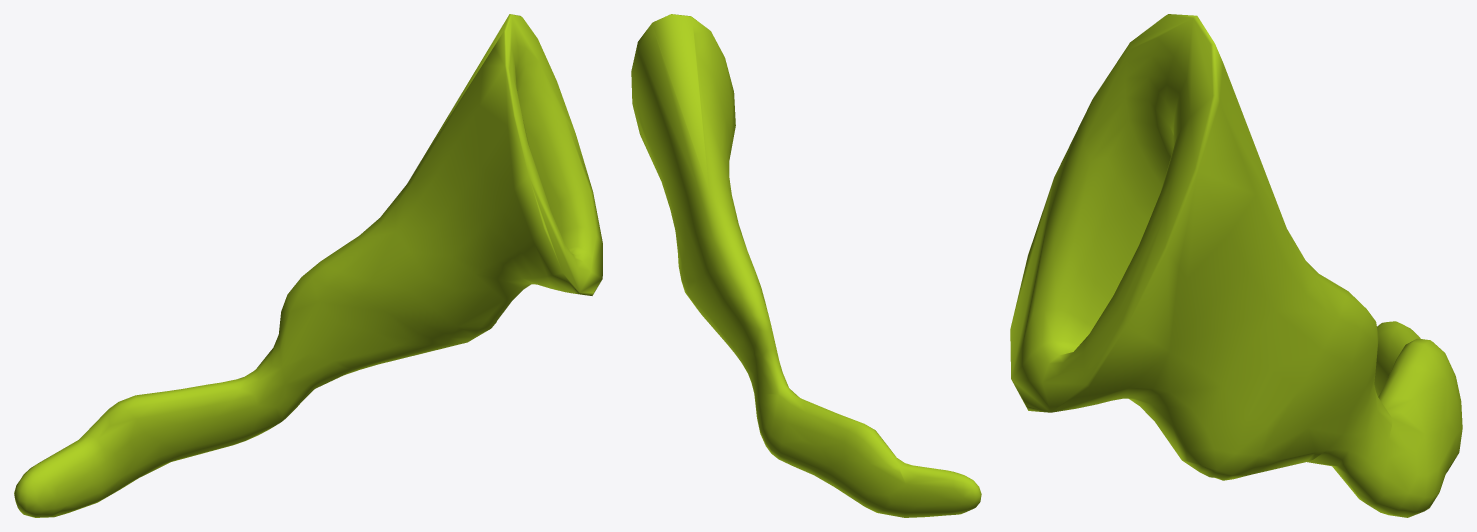
Rendered from VitellineDuct.fbx.
3 renders of one model, left to right at view 1: azimuth 30°, elevation 25°; view 2: azimuth 150°, elevation 25°; view 3: azimuth 270°, elevation 25°, orthographic. The views are drawn at different scales.
Visible parts, largest first — view 1: Vitelline_duct; view 2: Vitelline_duct; view 3: Vitelline_duct.
Boxes of the visible parts, bbox=[...] form: Vitelline_duct: bbox=[14, 14, 602, 517]; Vitelline_duct: bbox=[631, 14, 981, 517]; Vitelline_duct: bbox=[1010, 14, 1462, 517].
Size of the model in its own units: 3.58 by 3.2 by 1.88.
